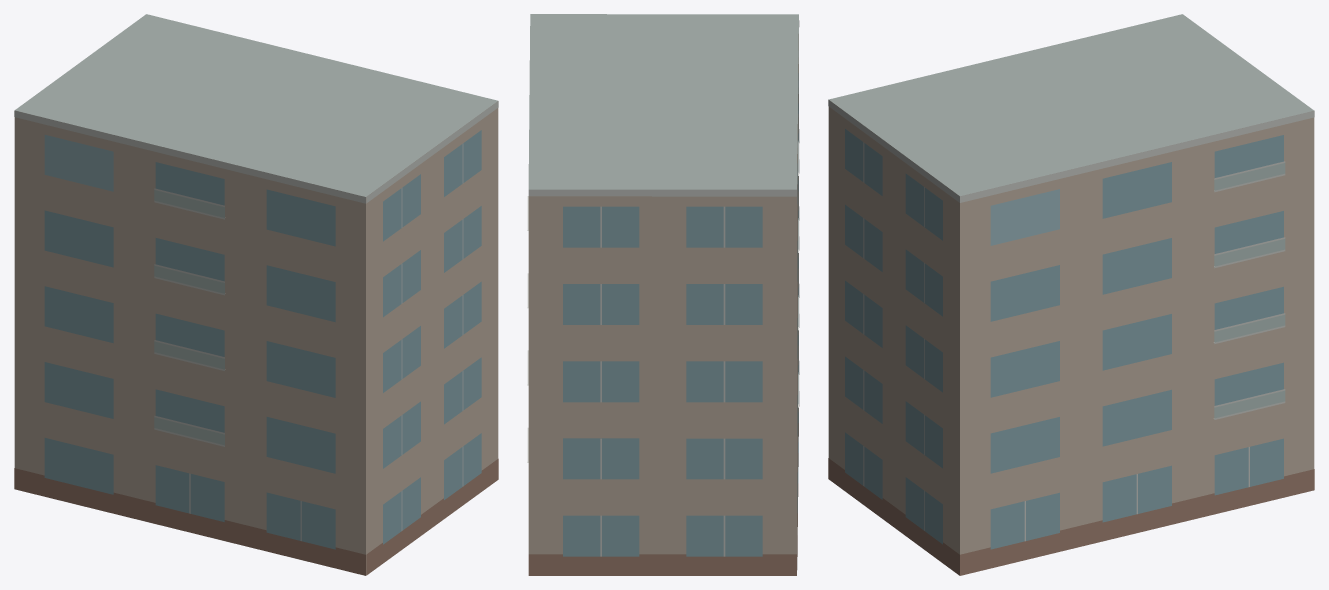
The model's file is survey-upis-32721929.glb.
3 views of the same model, side by side, from view 1: azimuth 30°, elevation 25°; view 2: azimuth 150°, elevation 25°; view 3: azimuth 270°, elevation 25° (orthographic).
Parts seen in each view (by area): view 1: survey-upis-32721929.tmp; view 2: survey-upis-32721929.tmp; view 3: survey-upis-32721929.tmp.
Boxes of the visible parts, box(x1,y1,x2,y2) form: survey-upis-32721929.tmp: box(14, 14, 498, 575); survey-upis-32721929.tmp: box(527, 14, 799, 575); survey-upis-32721929.tmp: box(828, 14, 1314, 575).
Bounding box in the file's own units: 14.17 × 13.75 × 15.96.
